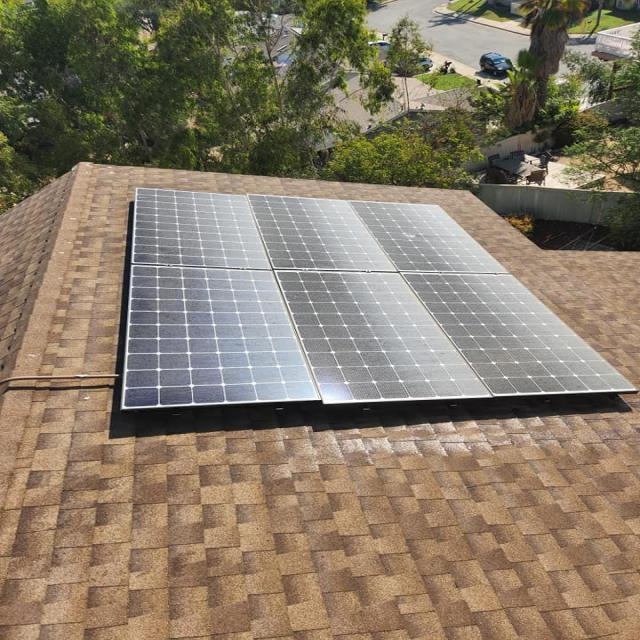dust-solar-panel: (118, 186, 639, 409)
